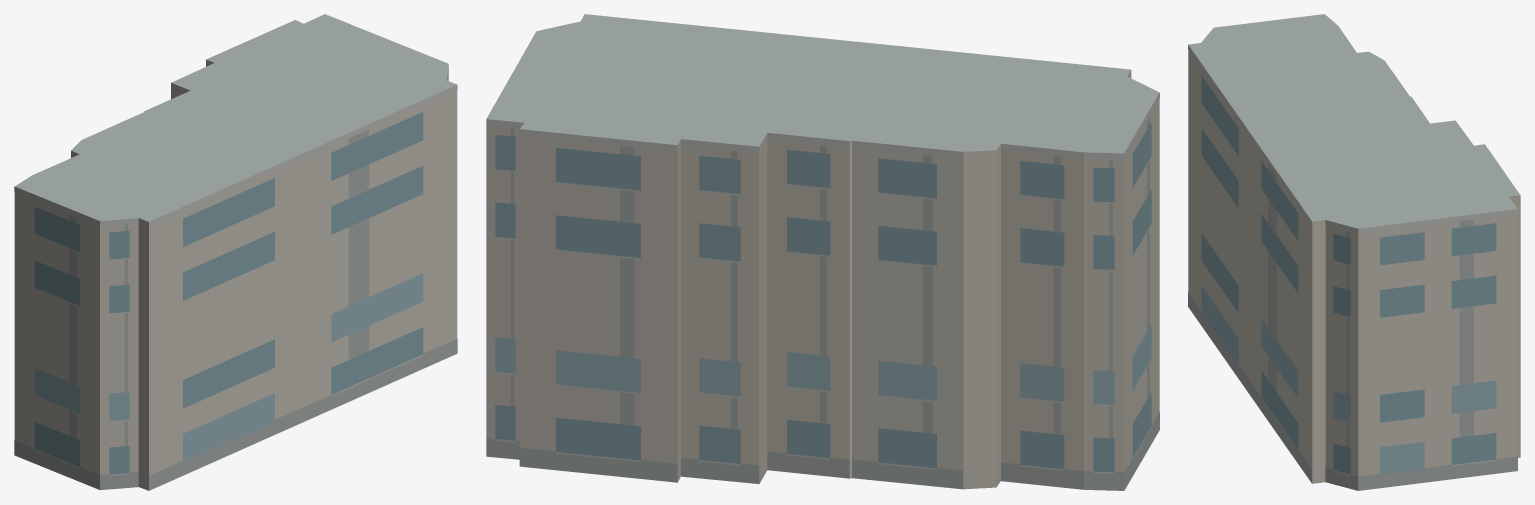
File: survey-upis-32614008.glb
3 views of the same model, side by side, from view 1: azimuth 30°, elevation 25°; view 2: azimuth 150°, elevation 25°; view 3: azimuth 270°, elevation 25° (orthographic). The views are drawn at different scales.
Visible parts, largest first — view 1: survey-upis-32614008.tmp; view 2: survey-upis-32614008.tmp; view 3: survey-upis-32614008.tmp.
Boxes of the visible parts, bbox=[...] form: survey-upis-32614008.tmp: bbox=[14, 14, 457, 490]; survey-upis-32614008.tmp: bbox=[486, 14, 1159, 490]; survey-upis-32614008.tmp: bbox=[1188, 14, 1520, 490].
Bounding box in the file's own units: 21.08 × 12 × 13.8.
